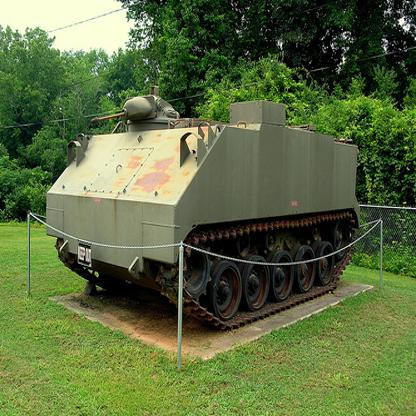Tank: (33, 89, 386, 333)
